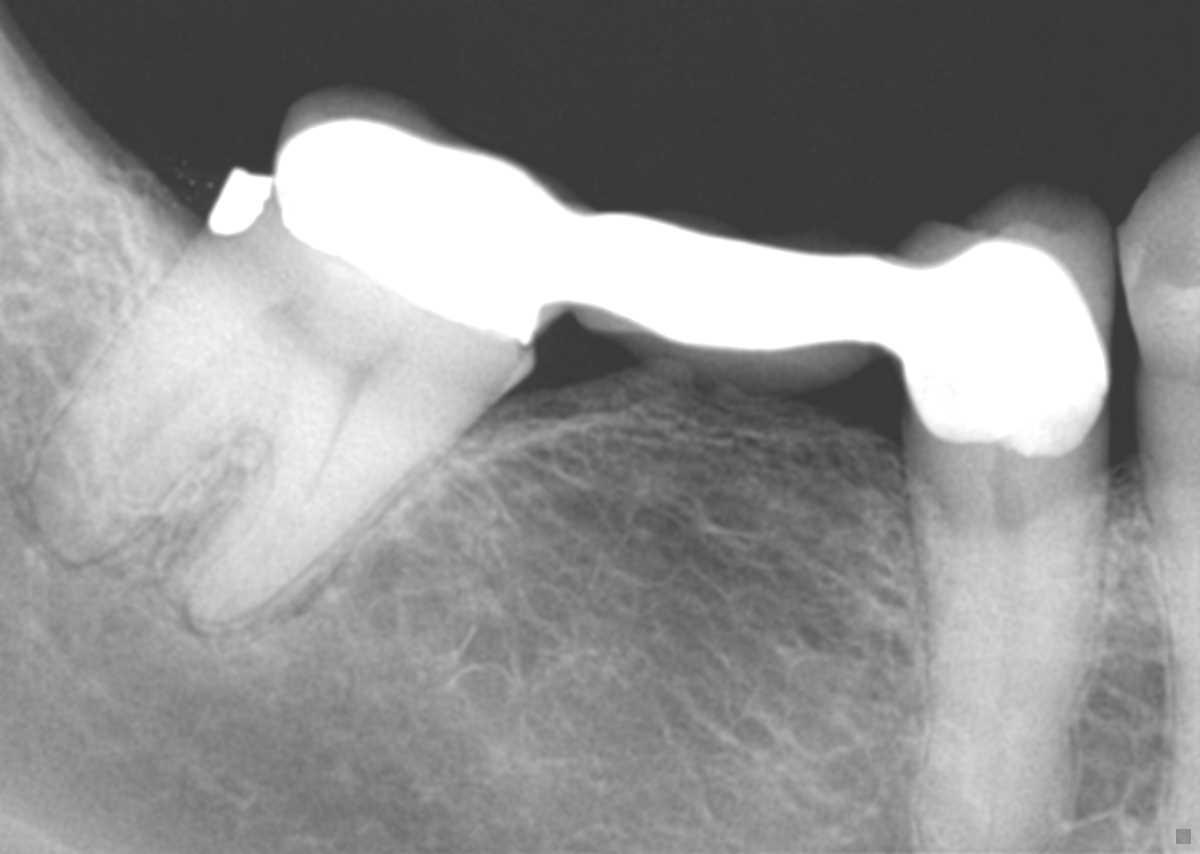Distal Canal: (75, 315, 269, 522)
Distal Root: (33, 231, 300, 563)
Main Canal: (984, 463, 1025, 847)
Main Root: (904, 449, 1110, 854), (1136, 457, 1200, 854)
Mesial Canal: (274, 390, 363, 552)
Mesial Root: (173, 355, 467, 622)
